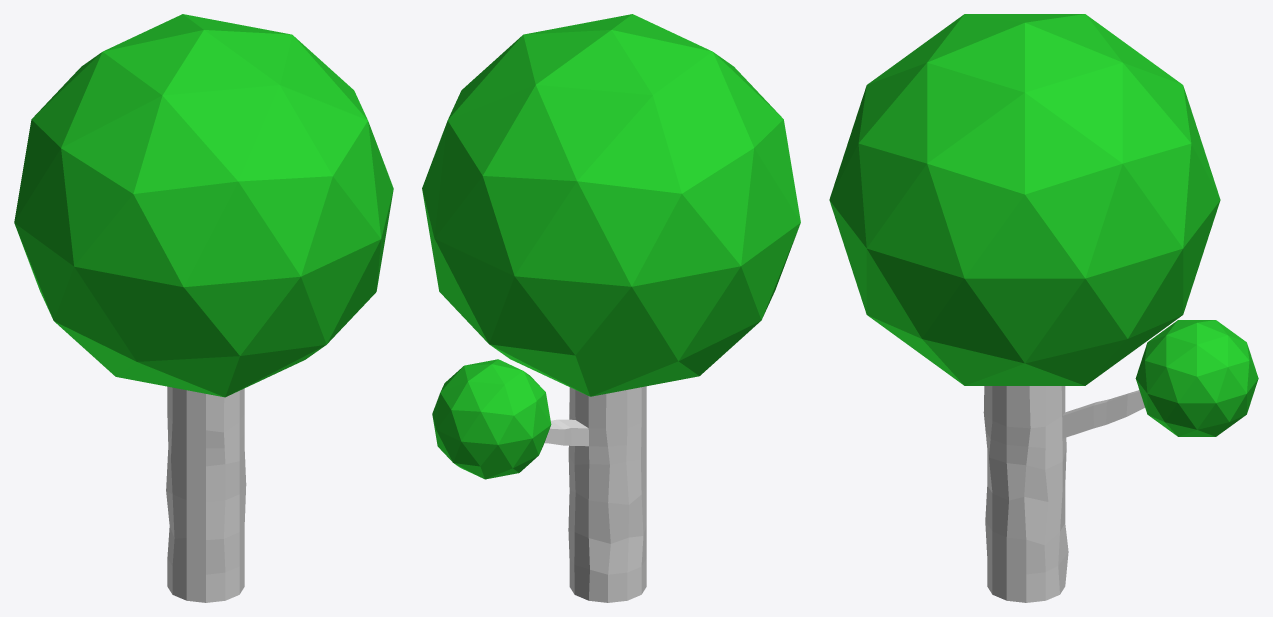
Rendered from tree.fbx.
The picture shows the model from 3 angles, left to right: view 1: azimuth 30°, elevation 25°; view 2: azimuth 150°, elevation 25°; view 3: azimuth 270°, elevation 25°; orthographic projection.
Parts seen in each view (by area): view 1: Cylinder; view 2: Cylinder; view 3: Cylinder.
Part boxes in pixels (x1,y1,x2,y2): Cylinder: (14,14,393,602); Cylinder: (422,14,800,602); Cylinder: (829,14,1258,602).
Bounding box in the file's own units: 83.74 × 140 × 96.61.
